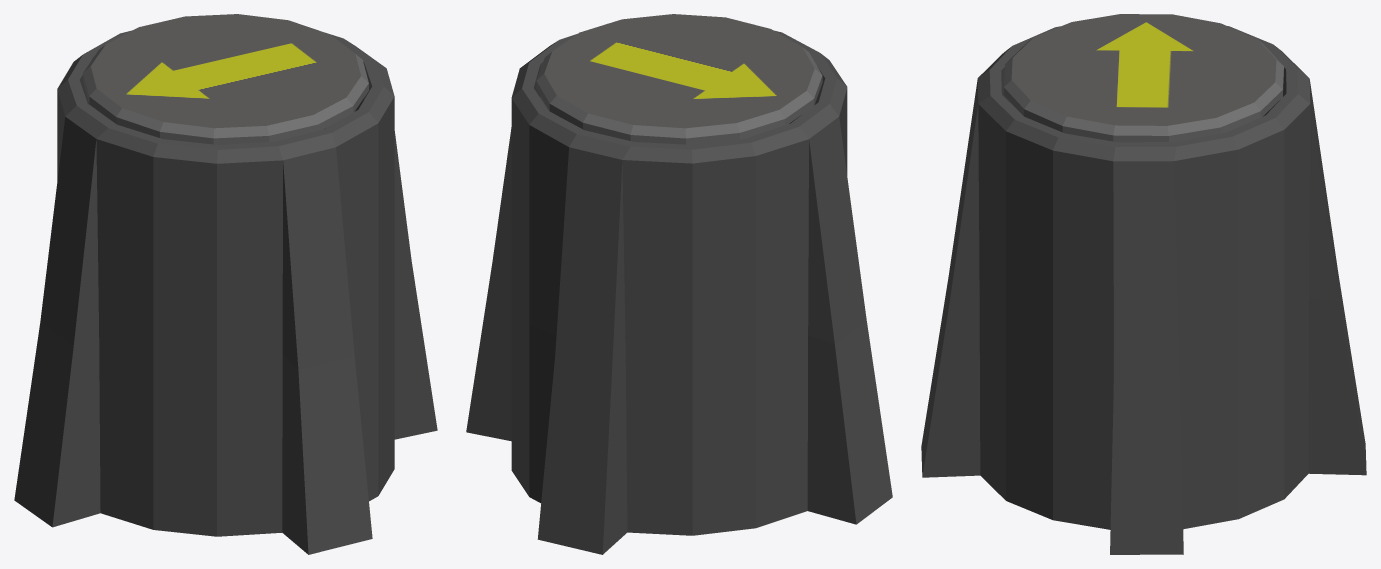
File: BouncingPad 1.fbx
3 views of the same model, side by side, from view 1: azimuth 30°, elevation 25°; view 2: azimuth 150°, elevation 25°; view 3: azimuth 270°, elevation 25° (orthographic).
Visible parts, largest first — view 1: BouncingPadBase, Pad; view 2: BouncingPadBase, Pad; view 3: BouncingPadBase, Pad.
Boxes of the visible parts, left/top/right/bottom form: BouncingPadBase: left=14, top=30, right=437, bottom=554; Pad: left=83, top=14, right=368, bottom=144; BouncingPadBase: left=466, top=30, right=892, bottom=554; Pad: left=536, top=14, right=822, bottom=144; BouncingPadBase: left=921, top=26, right=1366, bottom=554; Pad: left=1004, top=14, right=1283, bottom=142.
Bounding box in the file's own units: 266 × 266 × 266.
